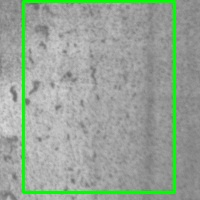pitted_surface: (23, 1, 174, 192)
